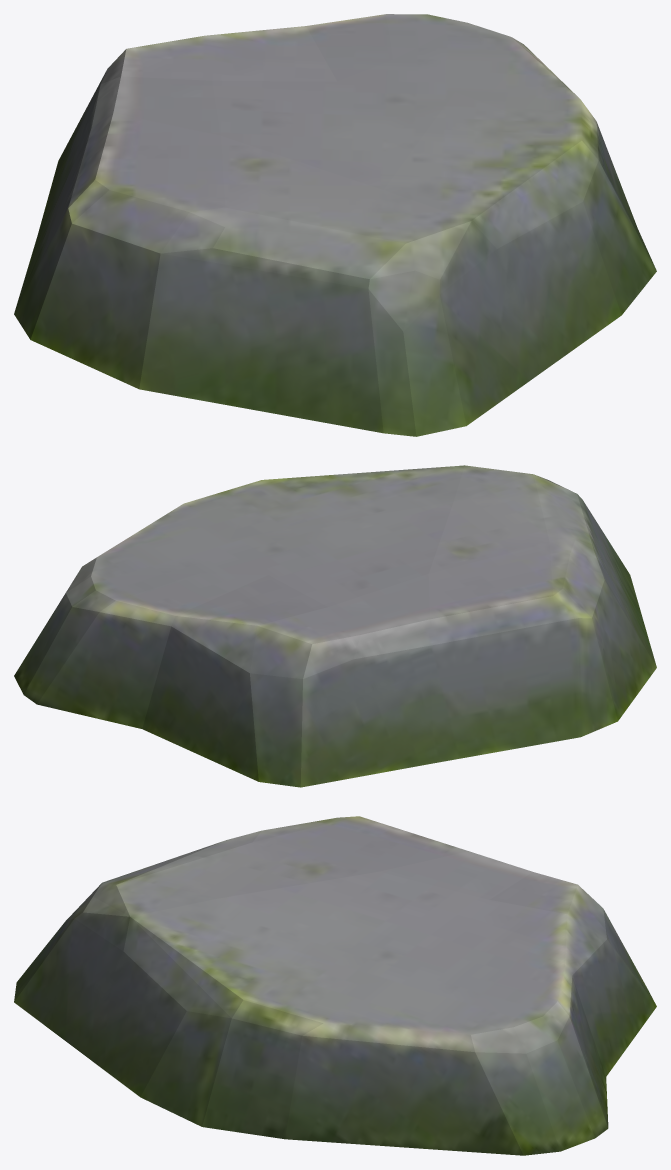
The model's file is Pebble_Round_3.glb.
3 renders of one model, top to bottom at view 1: azimuth 30°, elevation 25°; view 2: azimuth 150°, elevation 25°; view 3: azimuth 270°, elevation 25°, orthographic. The views are drawn at different scales.
Bounding box in the file's own units: 0.4497 × 0.0986 × 0.4848.
Materials: 1 (1 with a texture image).
